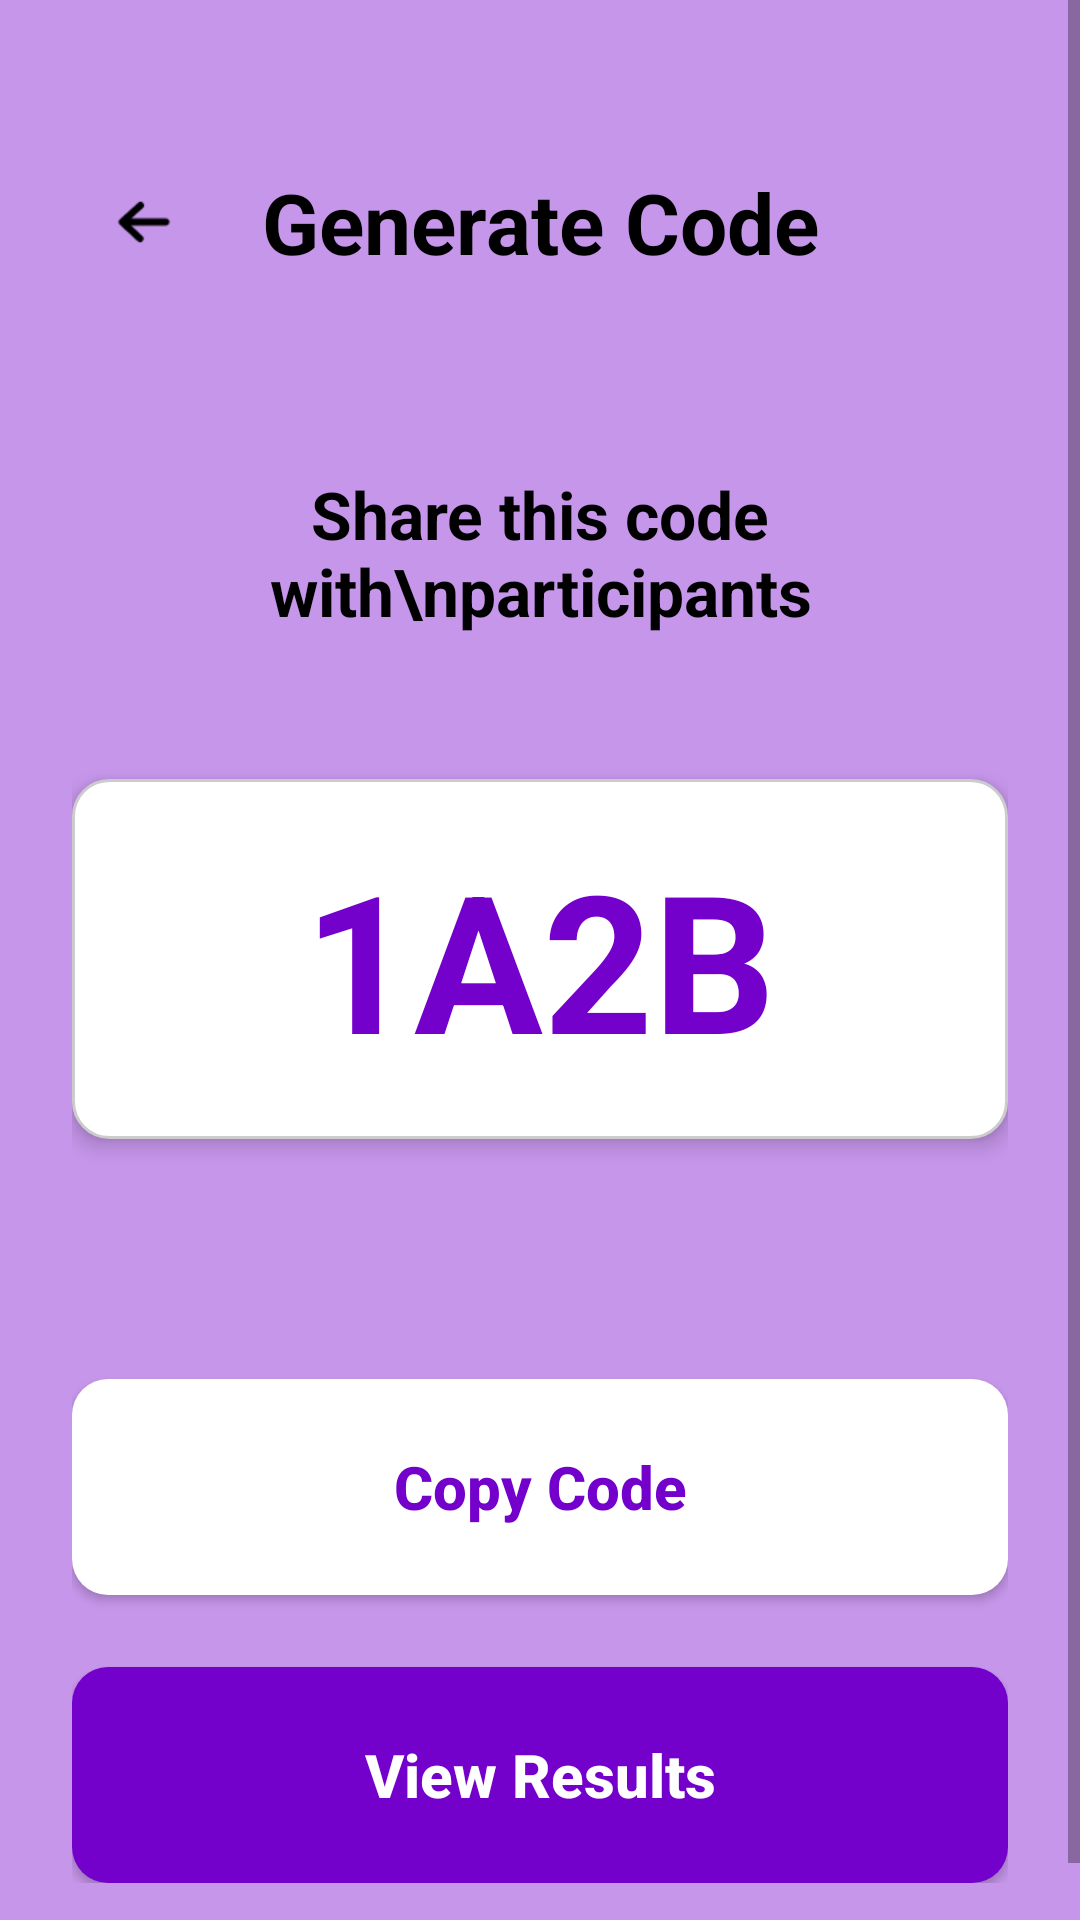

Screen size 1080px×1920px. Icon name, then its box in pixels as box(x1, y1, x2, y2):
back arrow: box(118, 201, 170, 243)
